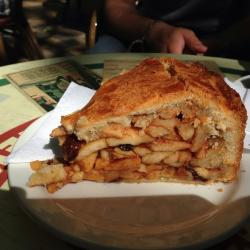apple_pie: (55, 53, 245, 194)
